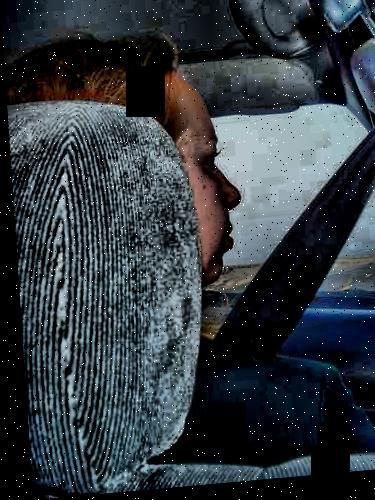seatbelt: (201, 151, 375, 388)
